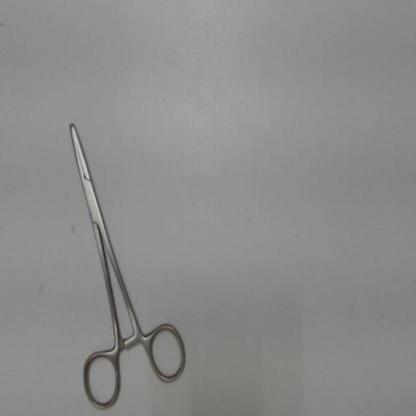Mayo Needle Holder: (63, 110, 191, 414)
